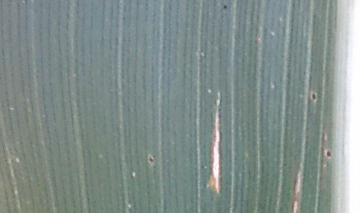tarspot: (147, 154, 155, 163), (310, 91, 317, 101), (325, 148, 332, 157), (221, 4, 229, 9)
